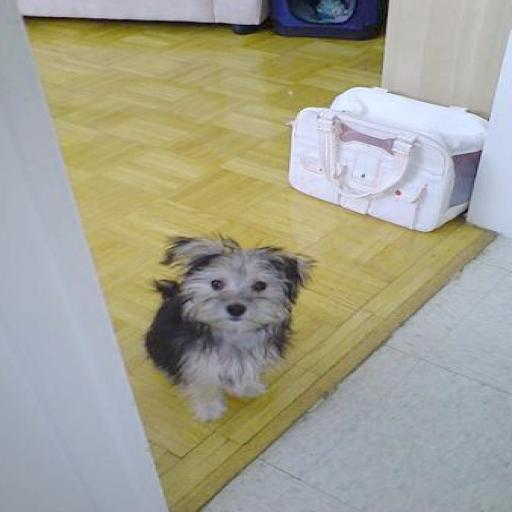dog_face: (169, 238, 314, 344)
